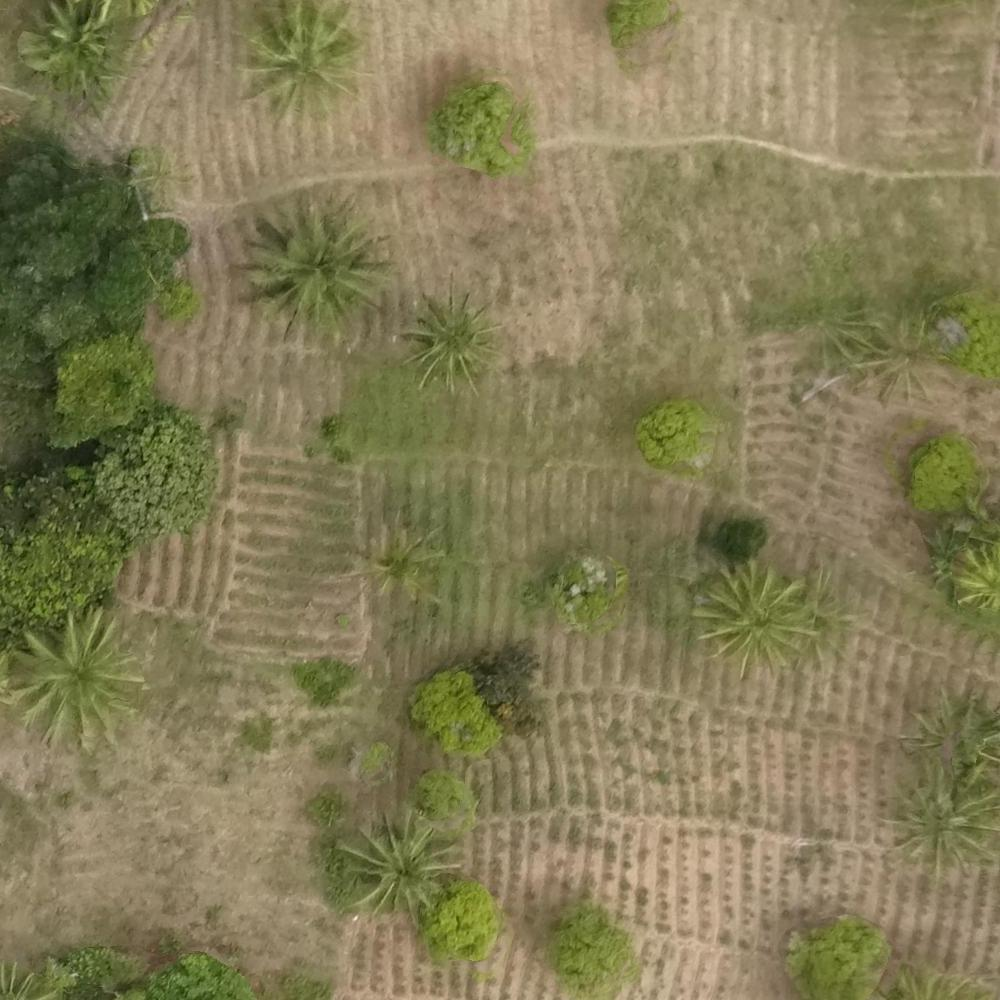Palm: (251, 202, 381, 329), (18, 610, 135, 746), (242, 4, 355, 116), (695, 566, 812, 672), (18, 1, 140, 97), (345, 816, 455, 916), (892, 776, 996, 873), (405, 293, 498, 389), (907, 692, 1000, 783)
